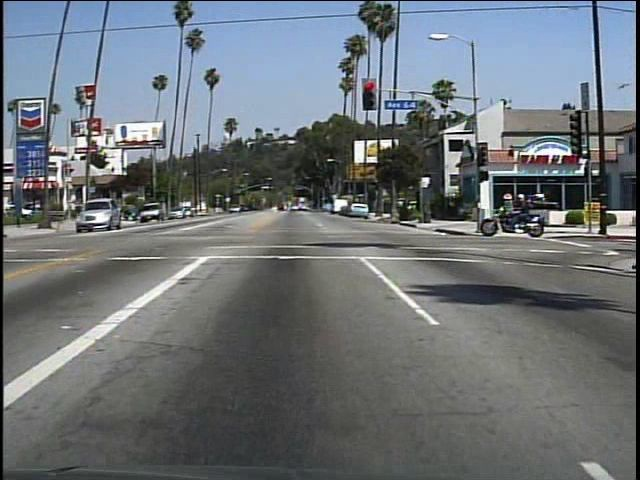person: (507, 192, 535, 235), (497, 187, 522, 231)
